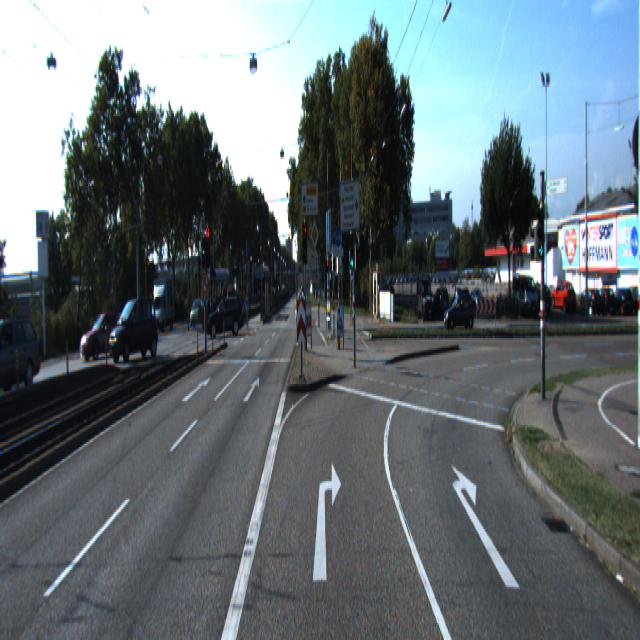Car: (0, 312, 47, 404), (108, 298, 159, 366), (79, 313, 129, 368), (203, 297, 246, 343), (150, 276, 177, 334), (442, 292, 475, 331)
